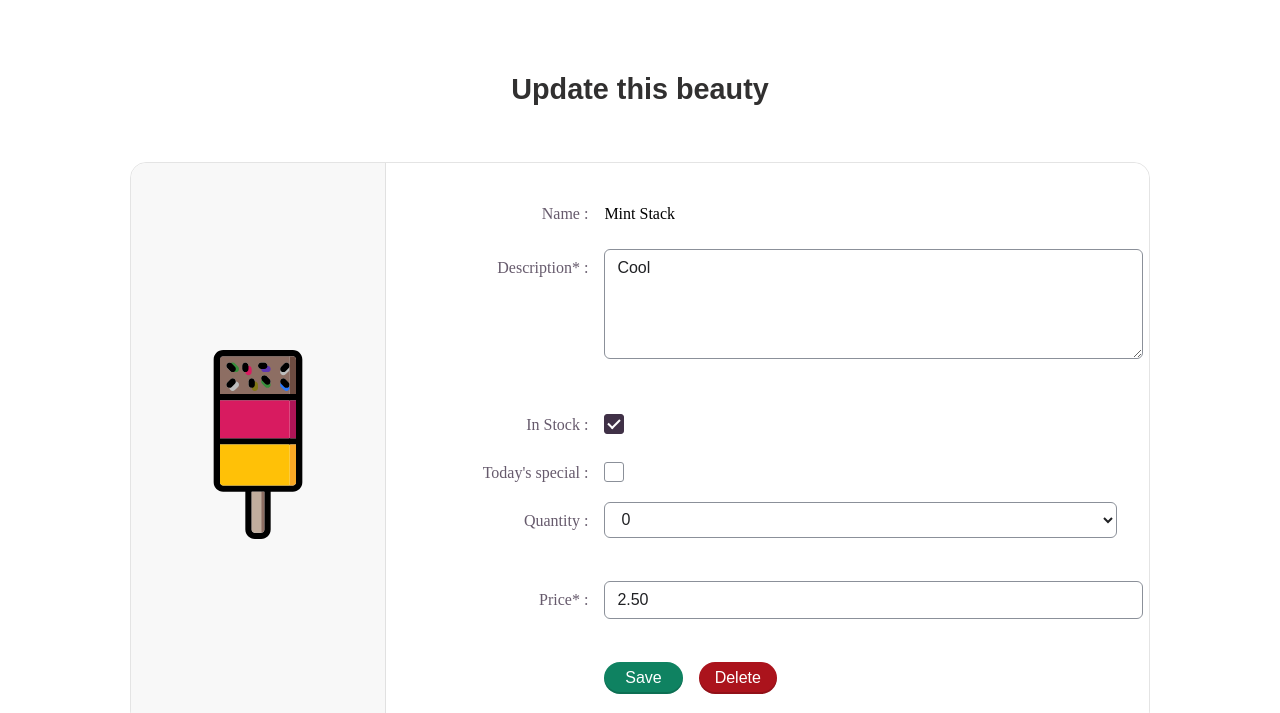
Test: a failed save or delete › keeps the edit form and shows an alert on delete
The image size is (1280, 713).
Click the button "Delete" at (738, 678), box [699, 662, 777, 694]
(page scrolled)
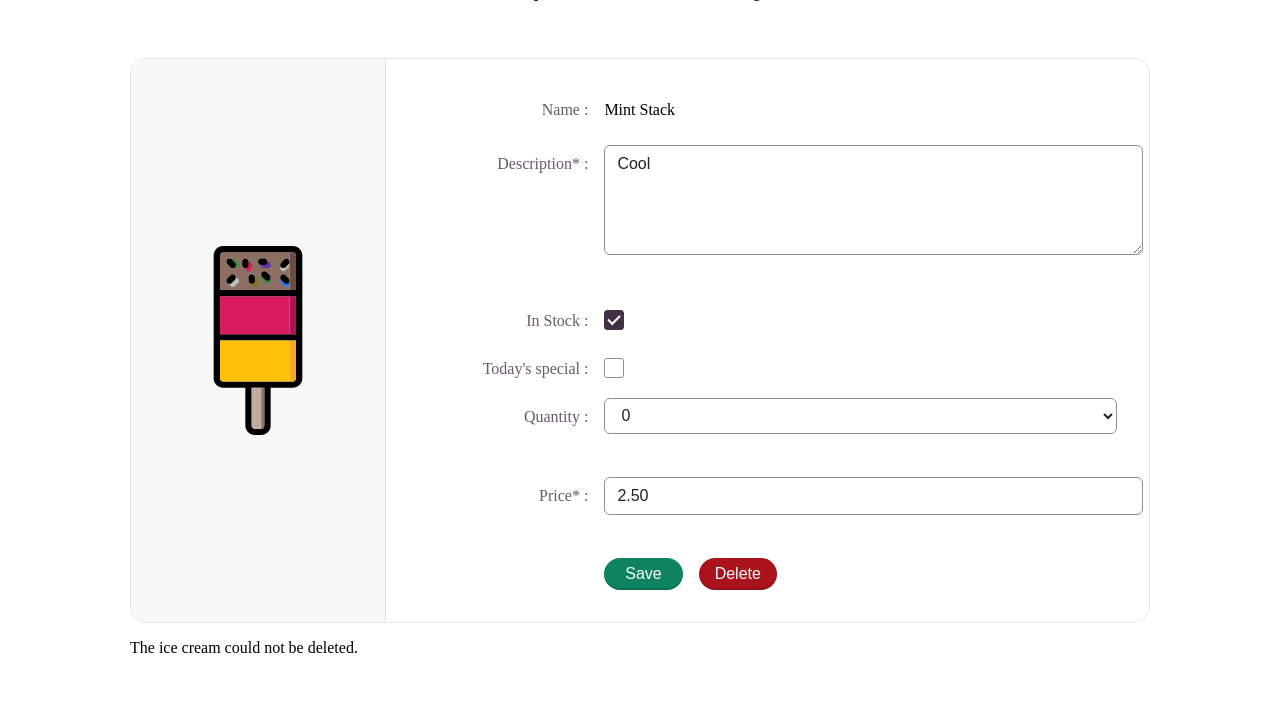
Expected: the button "Delete" is shown, [699, 558, 777, 590]
Expected: the message "The ice cream could not be deleted." is shown, [130, 639, 358, 656]
